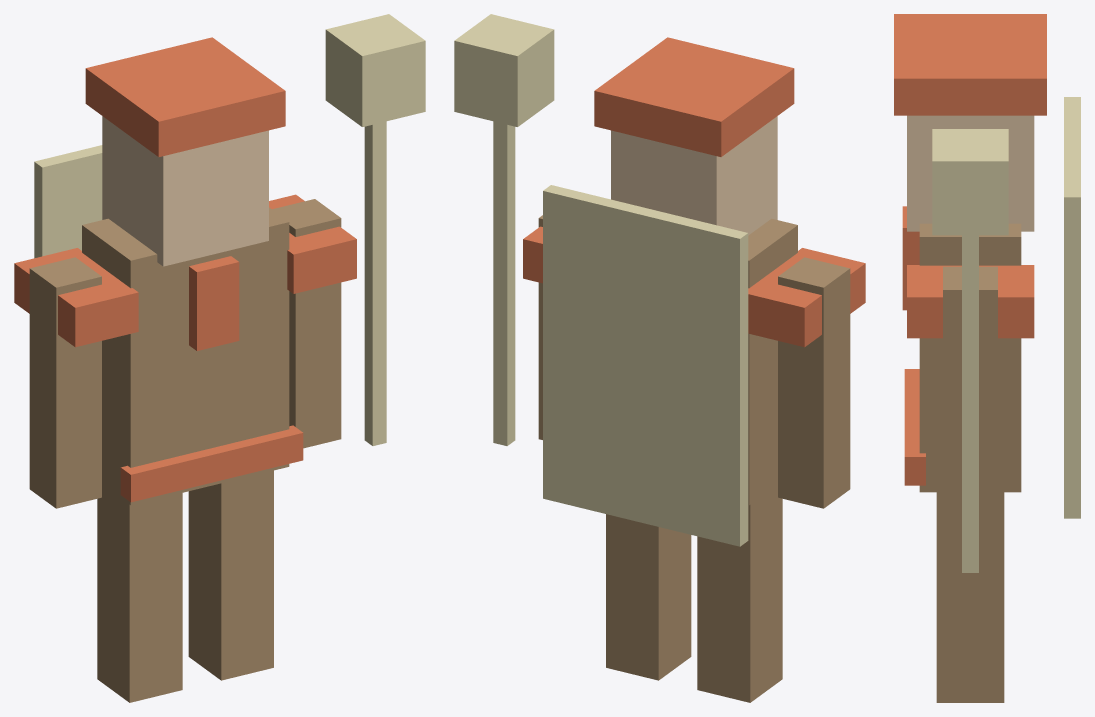
The model's file is 01_lyric_holloway_herald_of_server.glb.
3 views of the same model, side by side, from view 1: azimuth 30°, elevation 25°; view 2: azimuth 150°, elevation 25°; view 3: azimuth 270°, elevation 25° (orthographic). The views are drawn at different scales.
Visible parts, largest first — view 1: Lyric Holloway, Herald of Server; view 2: Lyric Holloway, Herald of Server; view 3: Lyric Holloway, Herald of Server.
Part boxes in pixels (x1,y1,x2,y2): Lyric Holloway, Herald of Server: (14,14,425,702); Lyric Holloway, Herald of Server: (454,14,865,702); Lyric Holloway, Herald of Server: (894,14,1080,702).
Bounding box in the file's own units: 0.9787 × 1.52 × 0.4161.
